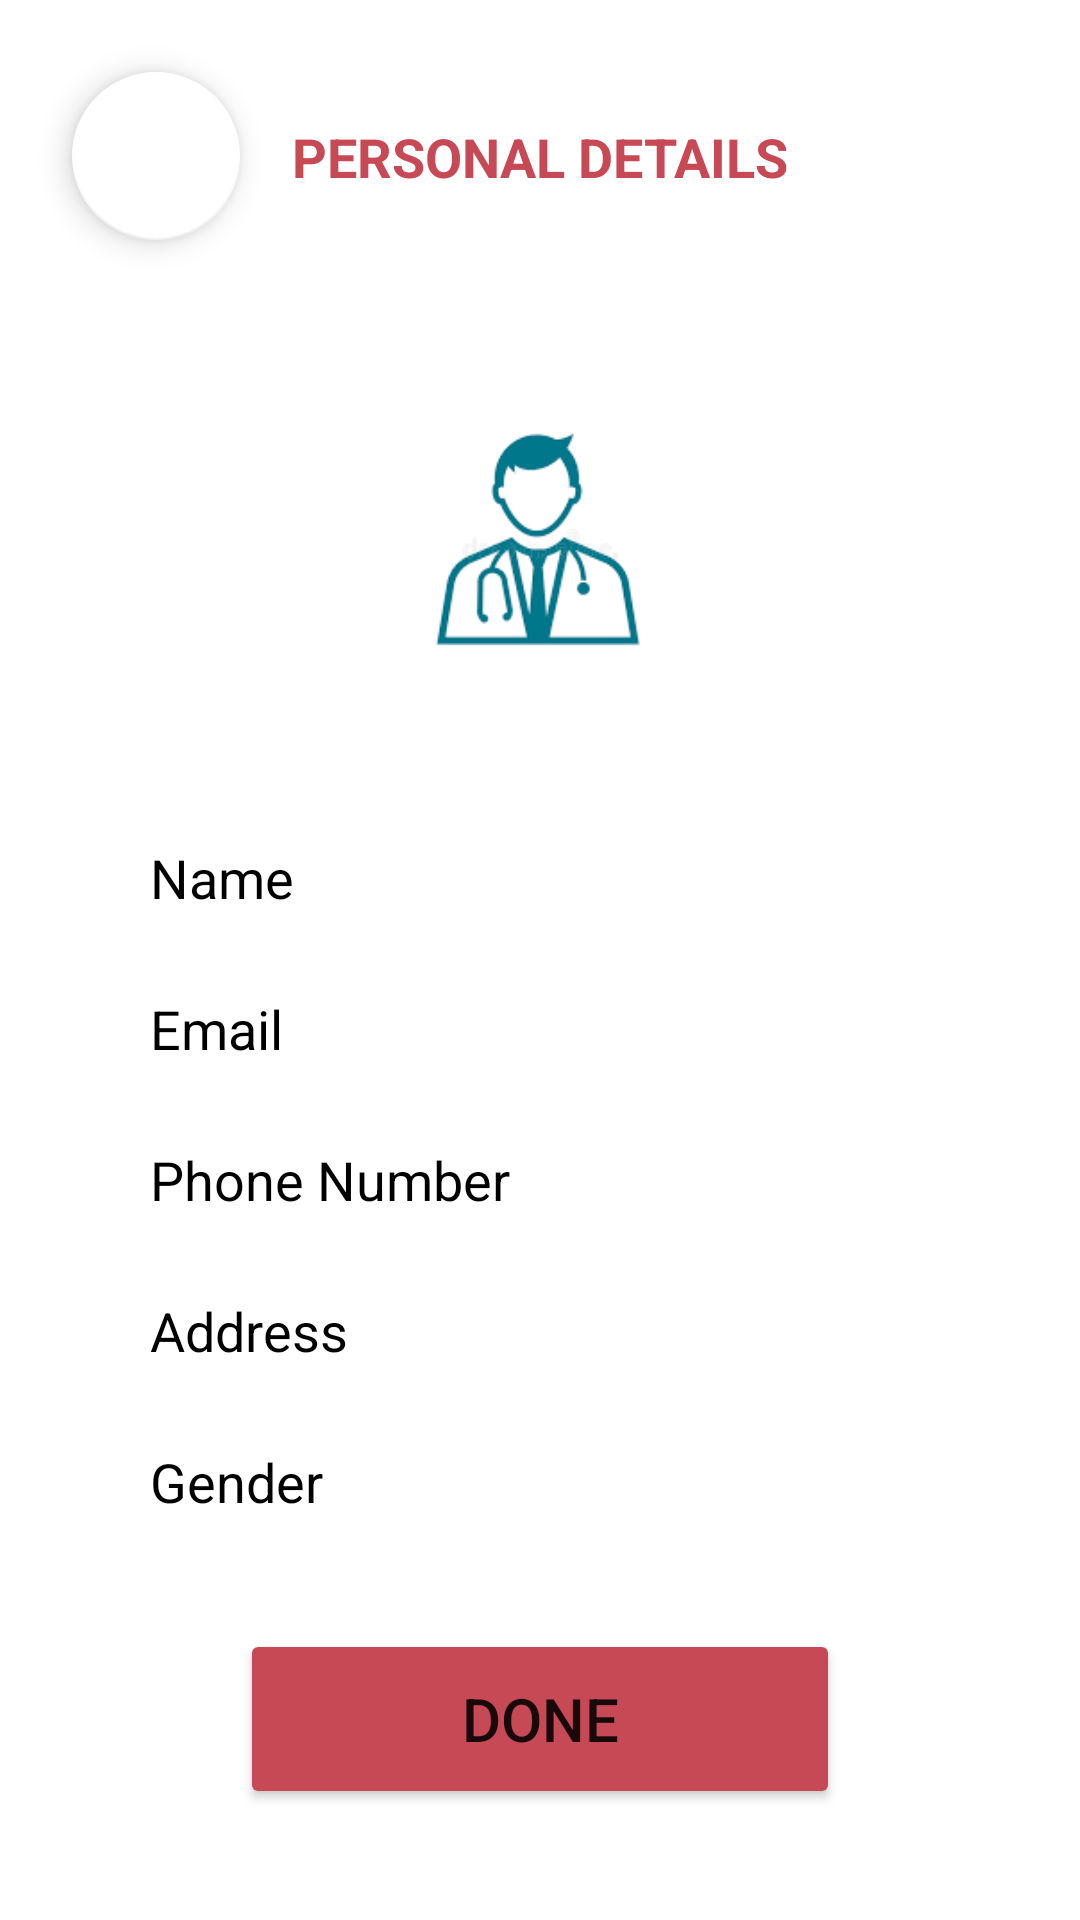

Named icons in this screenshot (1080px x 1920px) and their centers, (x=x, y=y):
doctor: (x=538, y=539)
